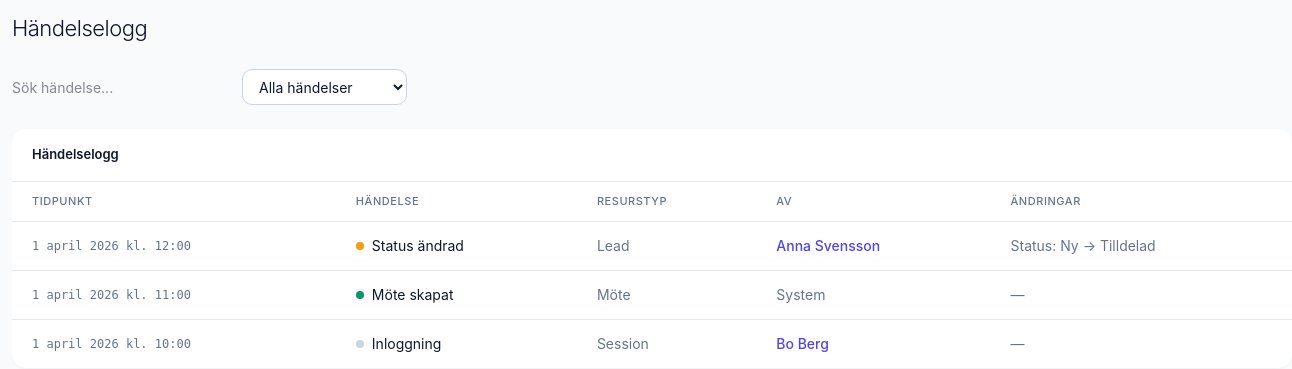
Scenario: AdminLogsPage › filters logs by resource_id search text
The image size is (1292, 369).
Note: Search by resource_id (unique to lead log)
Type "lead-123" into the field with placeholder "Sök händelse..." at coordinates (121, 87), box [12,69,230,105]
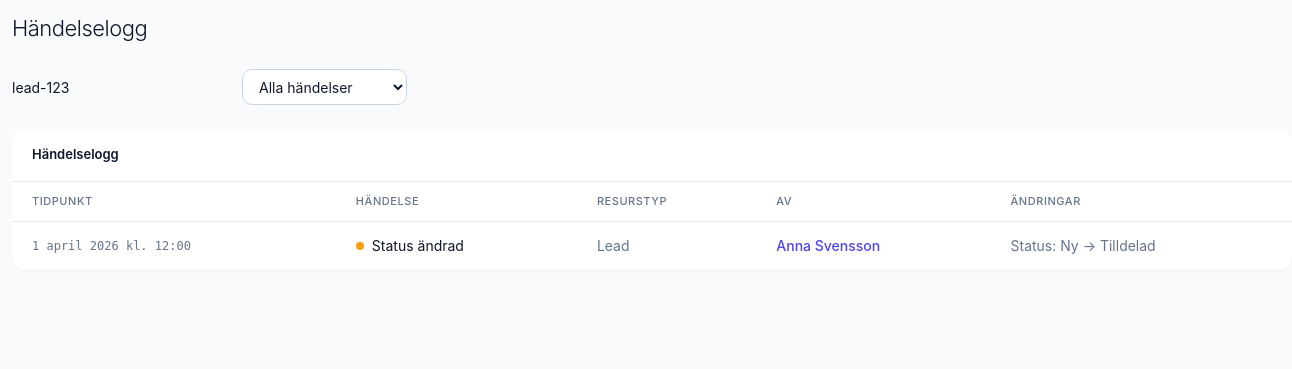
expect the text "Anna Svensson" is shown: met, box [776,237,880,254]
expect the text "Bo Berg" is gone: met
